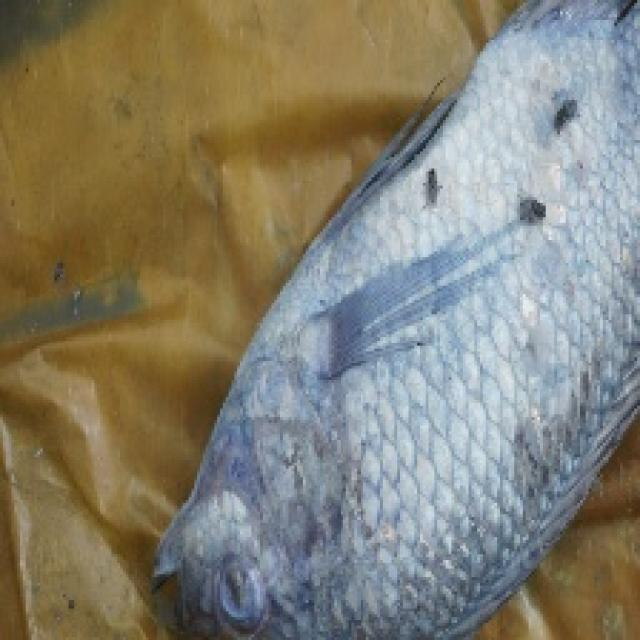Non-Fresh: (252, 85, 638, 640)
